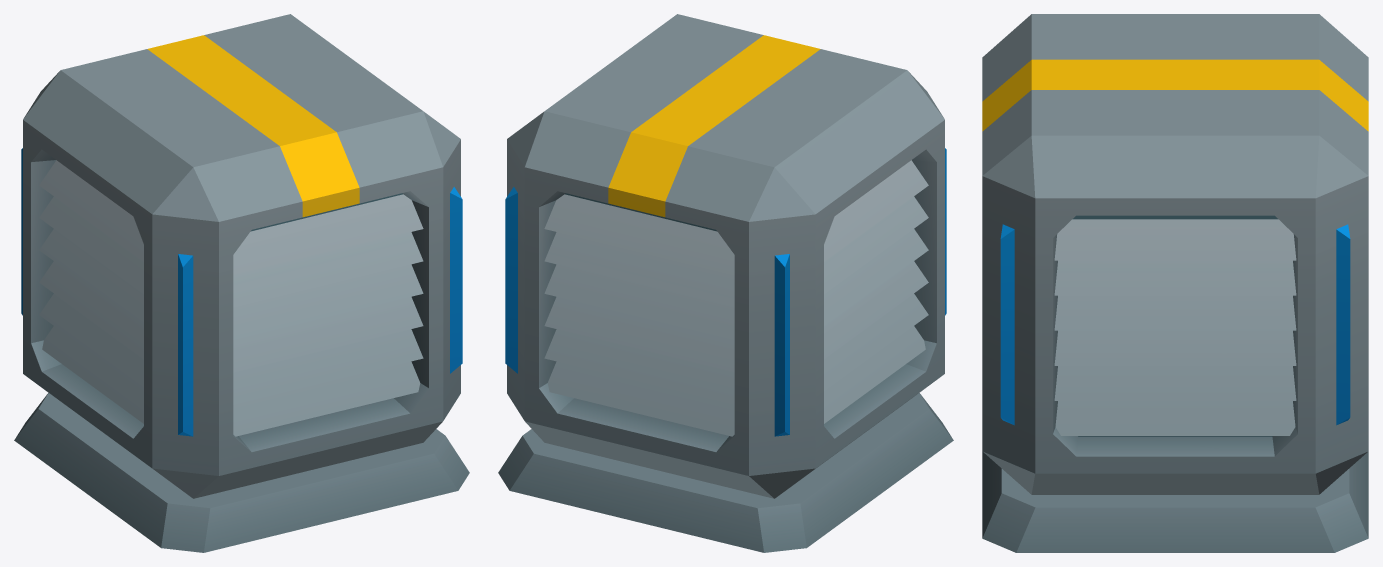
File: Ventilation_011.fbx
3 views of the same model, side by side, from view 1: azimuth 30°, elevation 25°; view 2: azimuth 150°, elevation 25°; view 3: azimuth 270°, elevation 25° (orthographic). The views are drawn at different scales.
Parts seen in each view (by area): view 1: Ventilation_011; view 2: Ventilation_011; view 3: Ventilation_011.
Part boxes in pixels (x1,y1,x2,y2): Ventilation_011: (14,14,469,552); Ventilation_011: (498,14,953,552); Ventilation_011: (982,14,1368,552).
Size of the model in its own units: 75.04 by 75.04 by 85.
